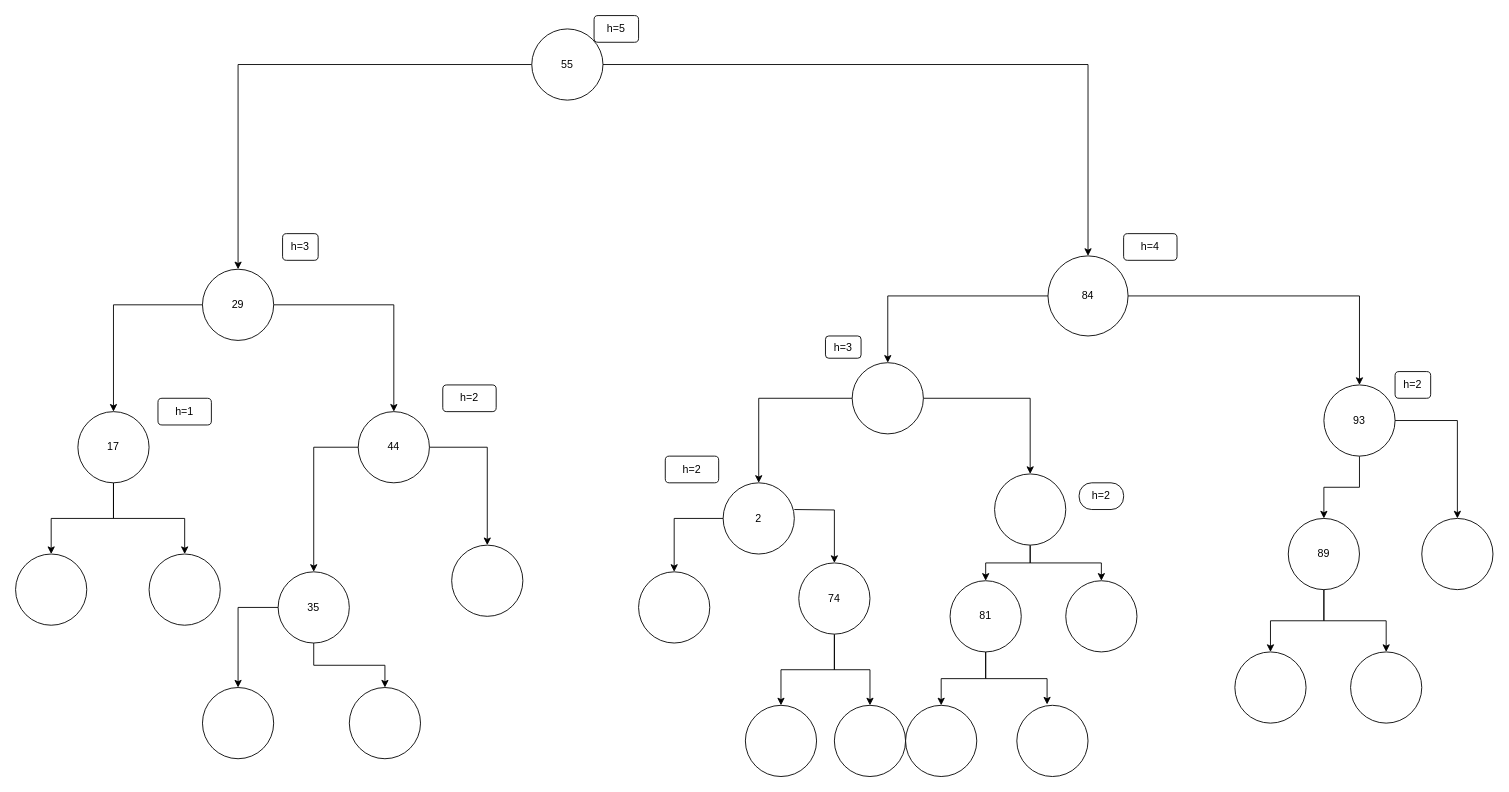
The diagram is 1509 pixels wide and 792 high, and some of its shapes have lost their labels. Here are the shapes that lost their labels. From the top down, the centre of each, then its label:
At pixel 887 398: "75 b=x".
At pixel 1030 509: "82 c=y".
